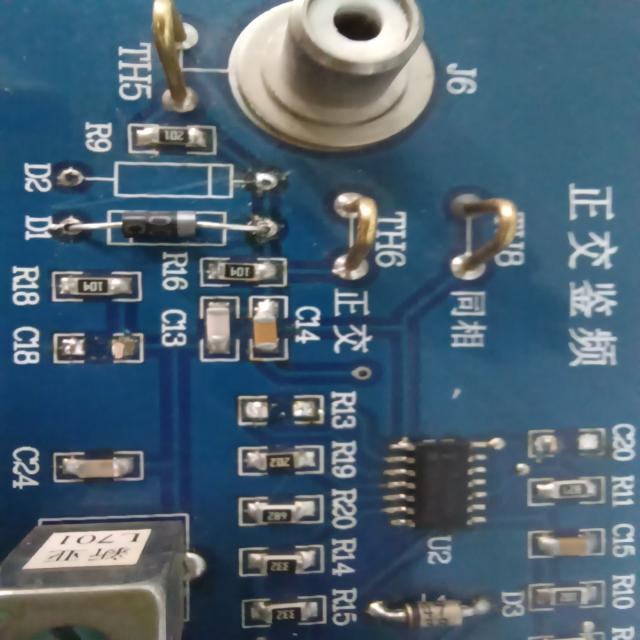Missing component: (14, 161, 288, 206), (6, 318, 150, 378), (206, 383, 370, 435), (521, 419, 640, 465)
